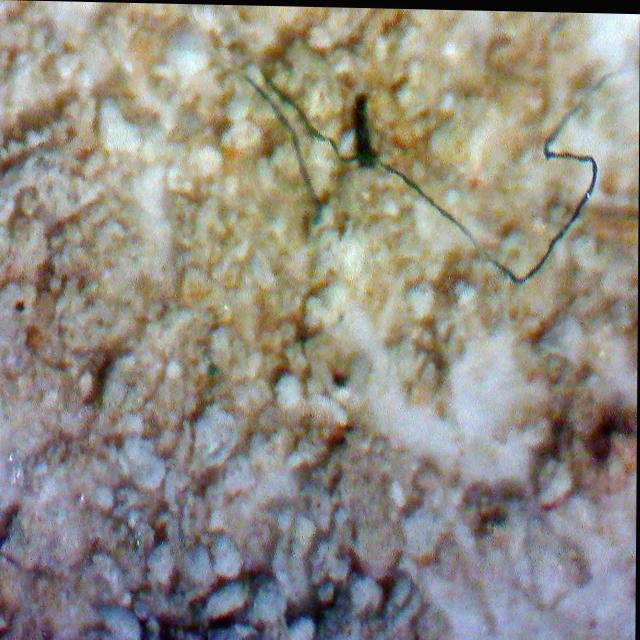microplastic: (264, 71, 602, 281), (247, 74, 322, 220)
